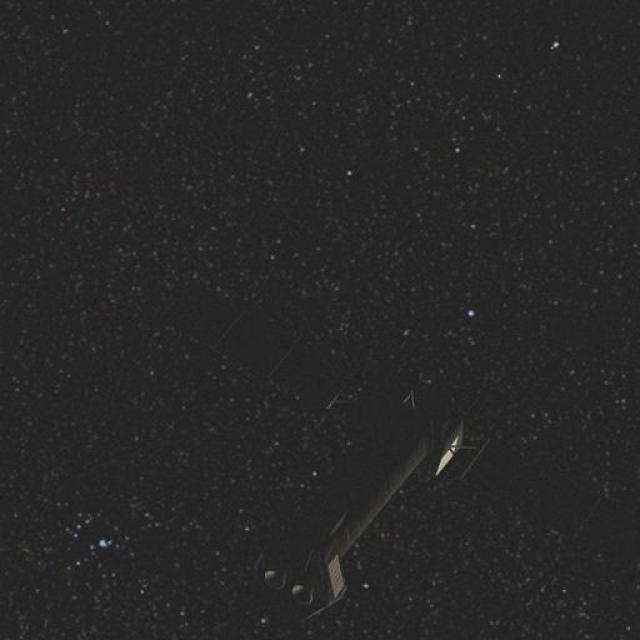xmm_newton: (225, 362, 518, 610)
